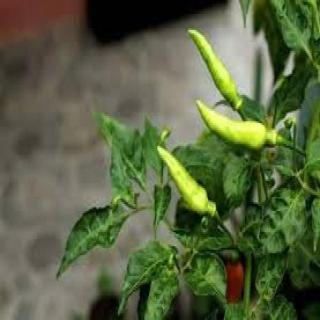Cabai Hijau: (188, 30, 270, 127), (196, 101, 286, 152), (156, 147, 216, 214)
